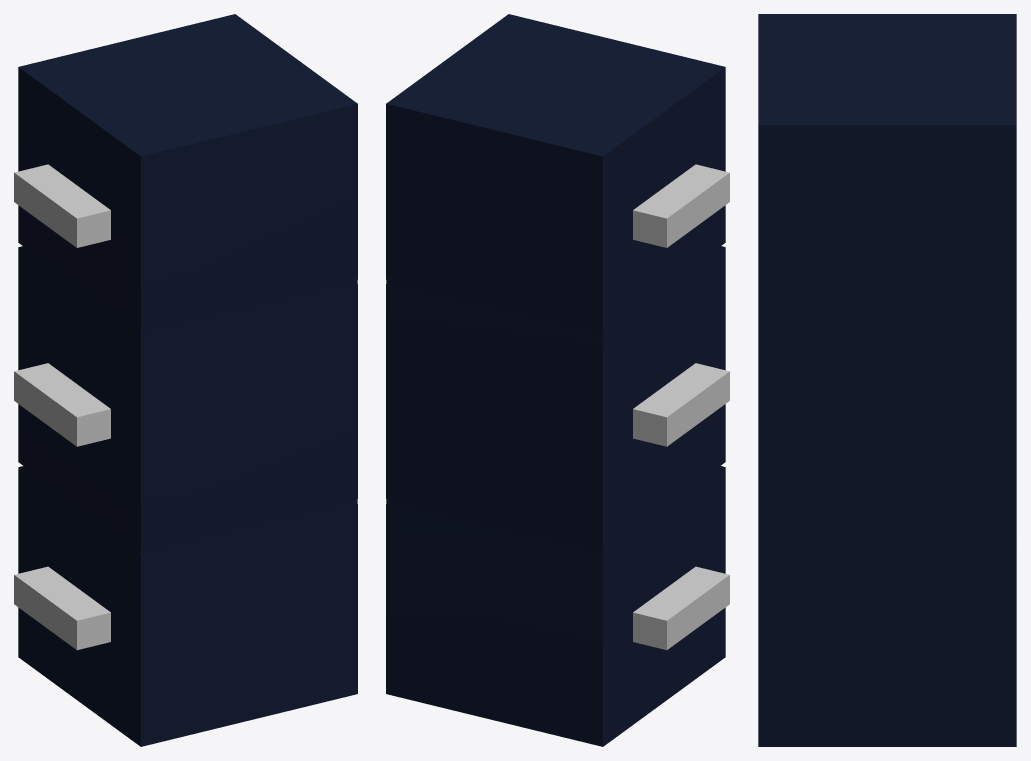
Rendered from FilingCabinet_Prop.fbx.
3 views of the same model, side by side, from view 1: azimuth 30°, elevation 25°; view 2: azimuth 150°, elevation 25°; view 3: azimuth 270°, elevation 25° (orthographic). The views are drawn at different scales.
Visible parts, largest first — view 1: FilingCabinet_Base2; view 2: FilingCabinet_Base2; view 3: FilingCabinet_Base2.
Part boxes in pixels (box(x1,y1,x2,y2)): FilingCabinet_Base2: box(14, 14, 357, 746); FilingCabinet_Base2: box(386, 14, 729, 746); FilingCabinet_Base2: box(758, 14, 1016, 746).
Size of the model in its own units: 8.92 by 20.05 by 7.54.
